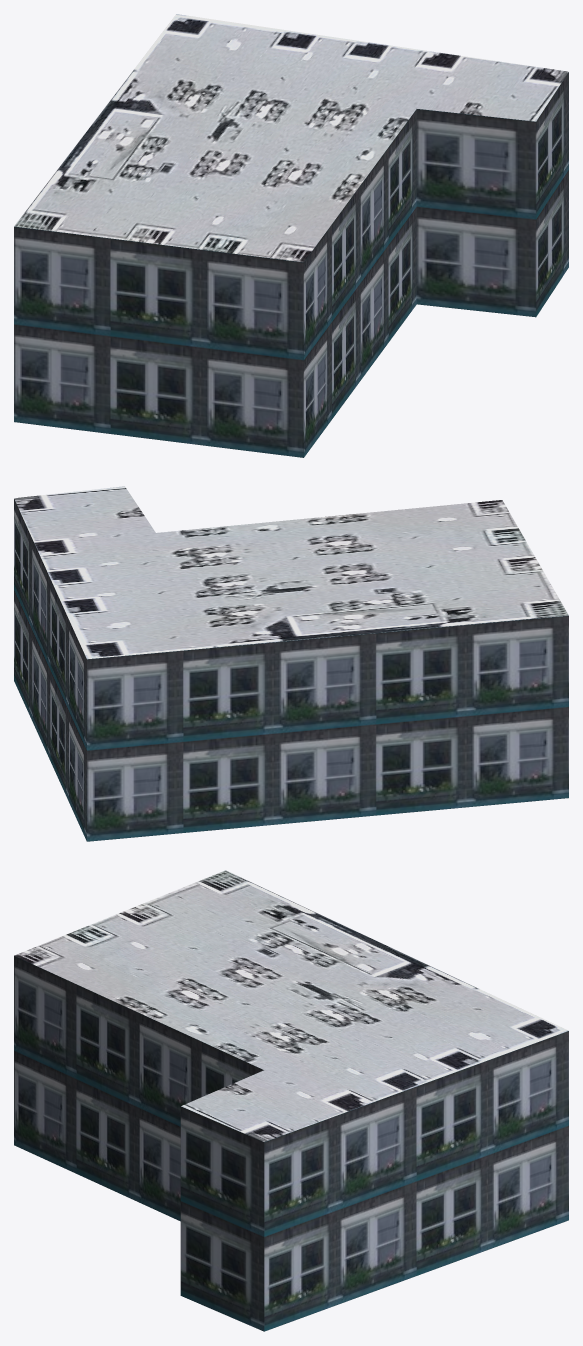
File: ResTex__8.fbx
3 views of the same model, one above another, from view 1: azimuth 30°, elevation 25°; view 2: azimuth 150°, elevation 25°; view 3: azimuth 270°, elevation 25° (orthographic). The views are drawn at different scales.
Visible parts, largest first — view 1: CityEngineMaterial_11_m, CityEngineMaterial_4_m; view 2: CityEngineMaterial_11_m, CityEngineMaterial_4_m; view 3: CityEngineMaterial_11_m, CityEngineMaterial_4_m.
Boxes of the visible parts, x1,y1,x2,y2 form: CityEngineMaterial_11_m: (14, 72, 568, 457); CityEngineMaterial_4_m: (14, 14, 568, 262); CityEngineMaterial_11_m: (14, 499, 568, 841); CityEngineMaterial_4_m: (14, 486, 568, 659); CityEngineMaterial_11_m: (14, 956, 568, 1331); CityEngineMaterial_4_m: (14, 870, 568, 1141).
Size of the model in its own units: 18.45 by 6 by 15.92.
Materials: 2 (2 with a texture image).
